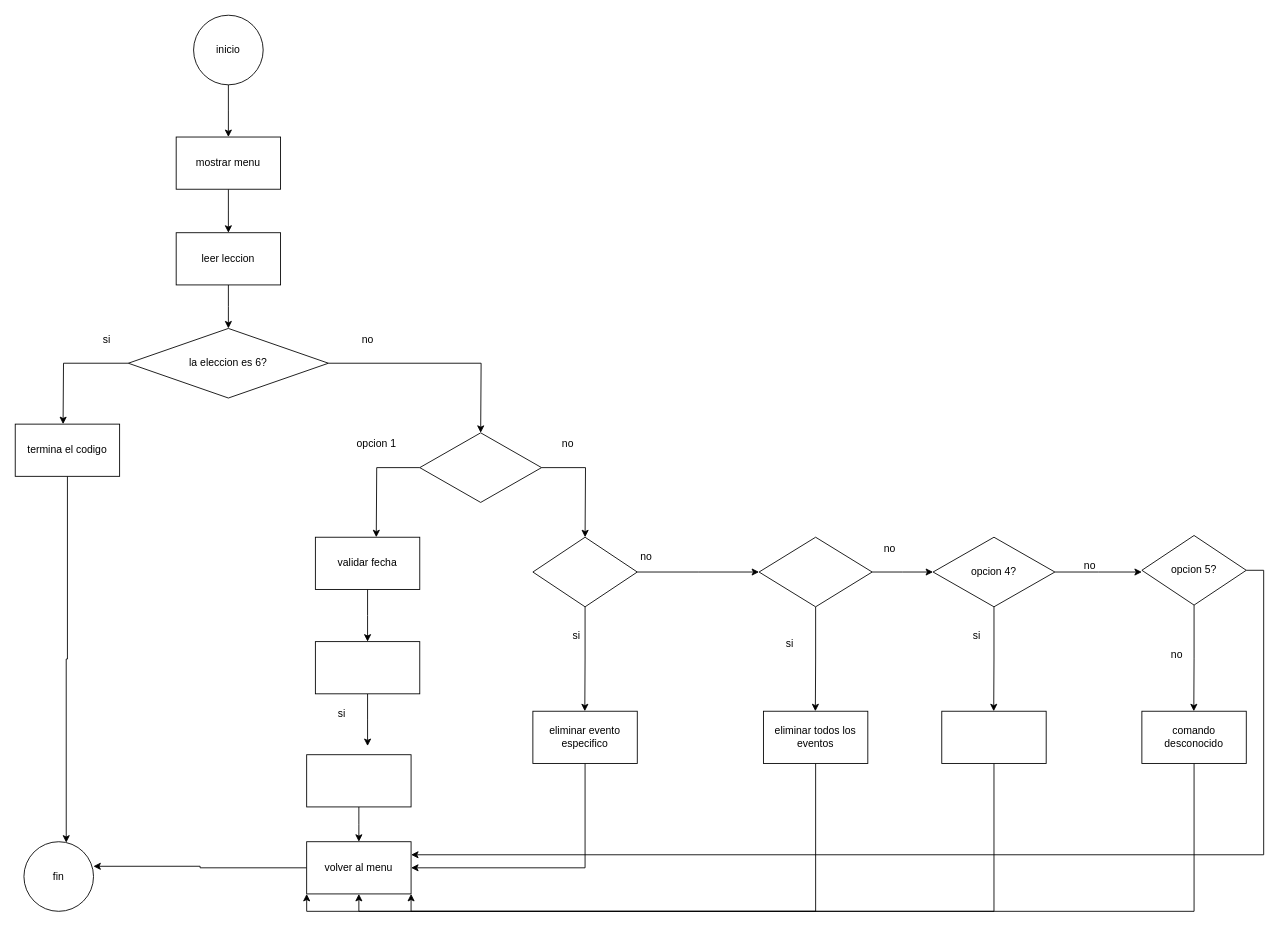
Image size: 1286x934. Some labels were removed from this diagram. The shapes that lost their labels are listed below. From the top down, each one's centre as x and y in pixels, then its label:
At [480,467]: "leer fecha y evento".
At [584,571]: "opcioon 2?".
At [815,571]: "opcion 3?".
At [367,667]: "fecha valida?".
At [993,736]: "buscar eventos".
At [358,780]: "agregar evento".
